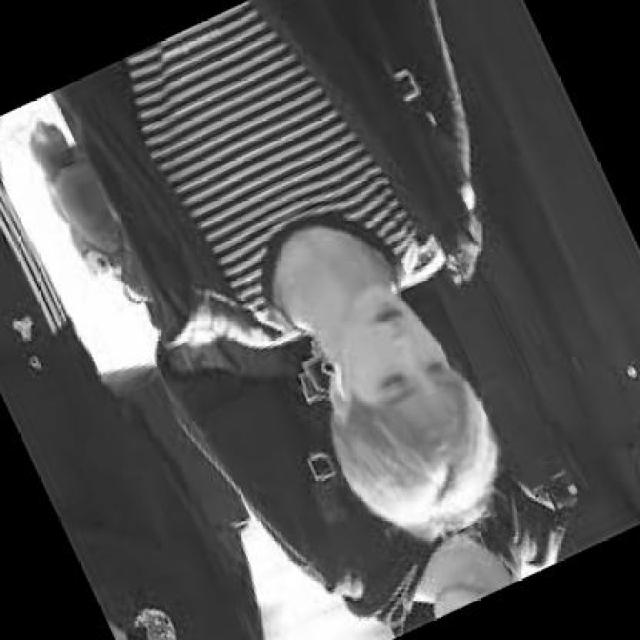earphone: (328, 357, 354, 412)
